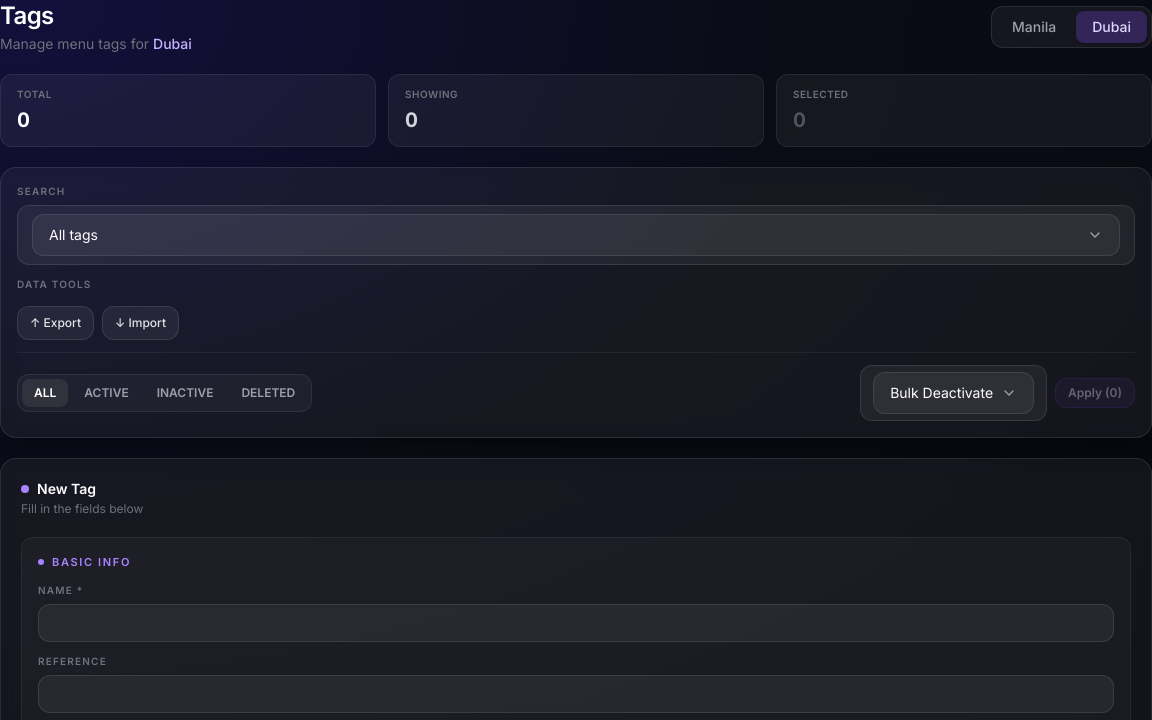
Test case: MenuTagsPage — create form › shows success message after creating tag
Type "Vegan" into the field below "Name *" at (576, 622), box [38,604,1114,642]
(page scrolled)
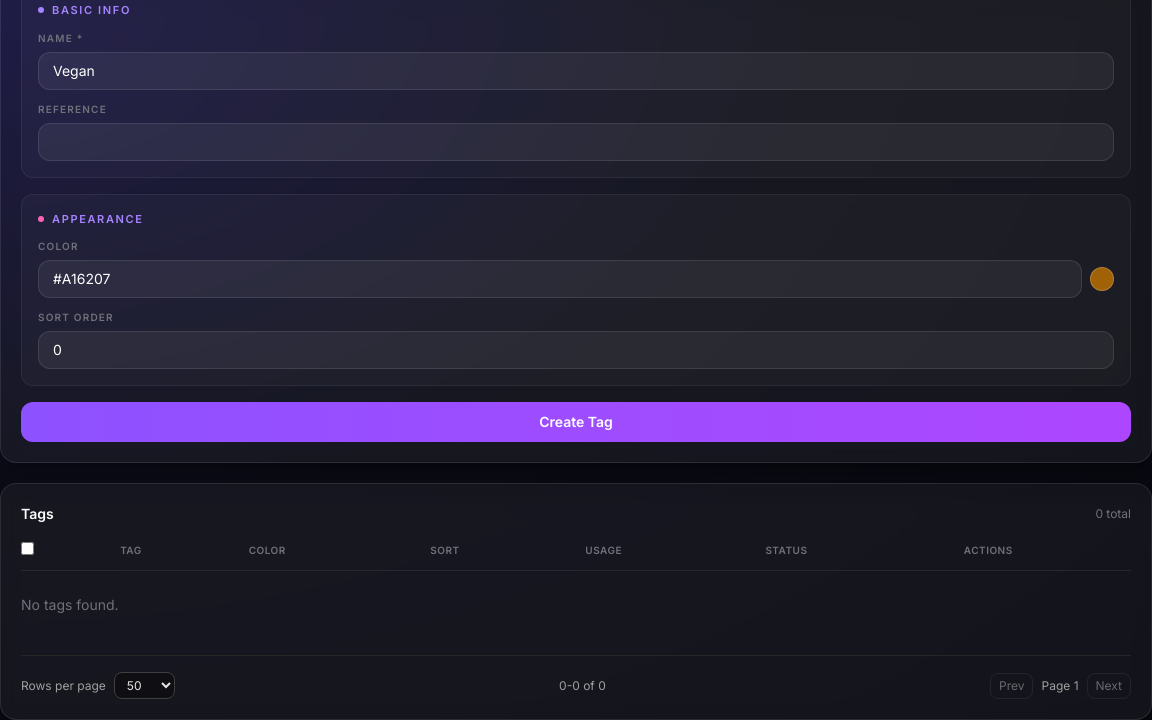
Click the button "Create Tag" at (576, 422), box [21,402,1131,442]
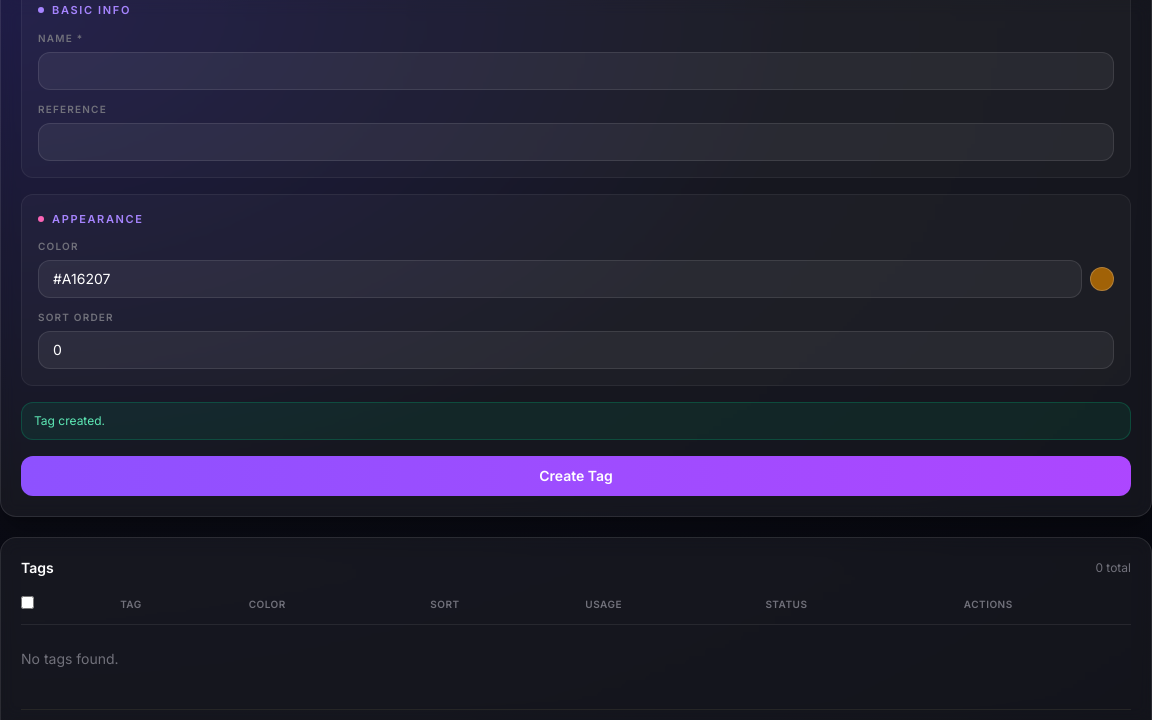
Expected: the text "Tag created." is shown, [21,402,1131,440]
